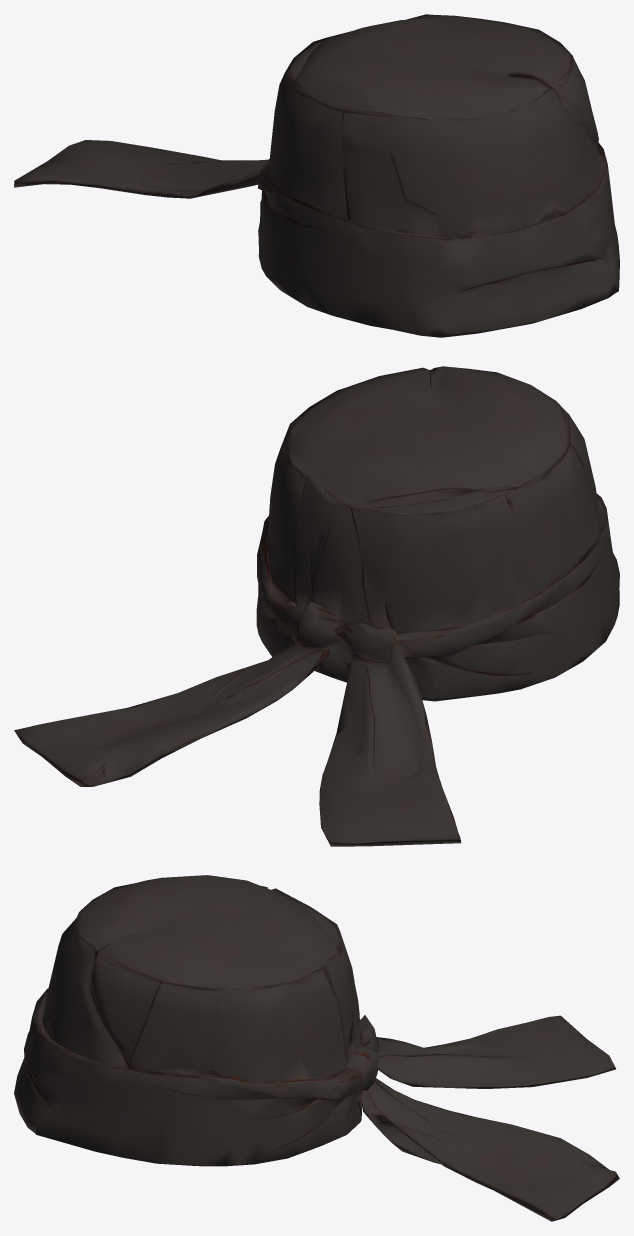
File: futou.glb
The picture shows the model from 3 angles, top to bottom: view 1: azimuth 30°, elevation 25°; view 2: azimuth 150°, elevation 25°; view 3: azimuth 270°, elevation 25°; orthographic projection. The views are drawn at different scales.
Visible parts, largest first — view 1: kusuriuri; view 2: kusuriuri; view 3: kusuriuri.
Boxes of the visible parts, x1,y1,x2,y2 form: kusuriuri: [14, 14, 619, 337]; kusuriuri: [14, 366, 619, 846]; kusuriuri: [14, 875, 619, 1221].
Size of the model in its own units: 0.3976 by 0.2 by 0.5125.
1 material, 1 textured.
